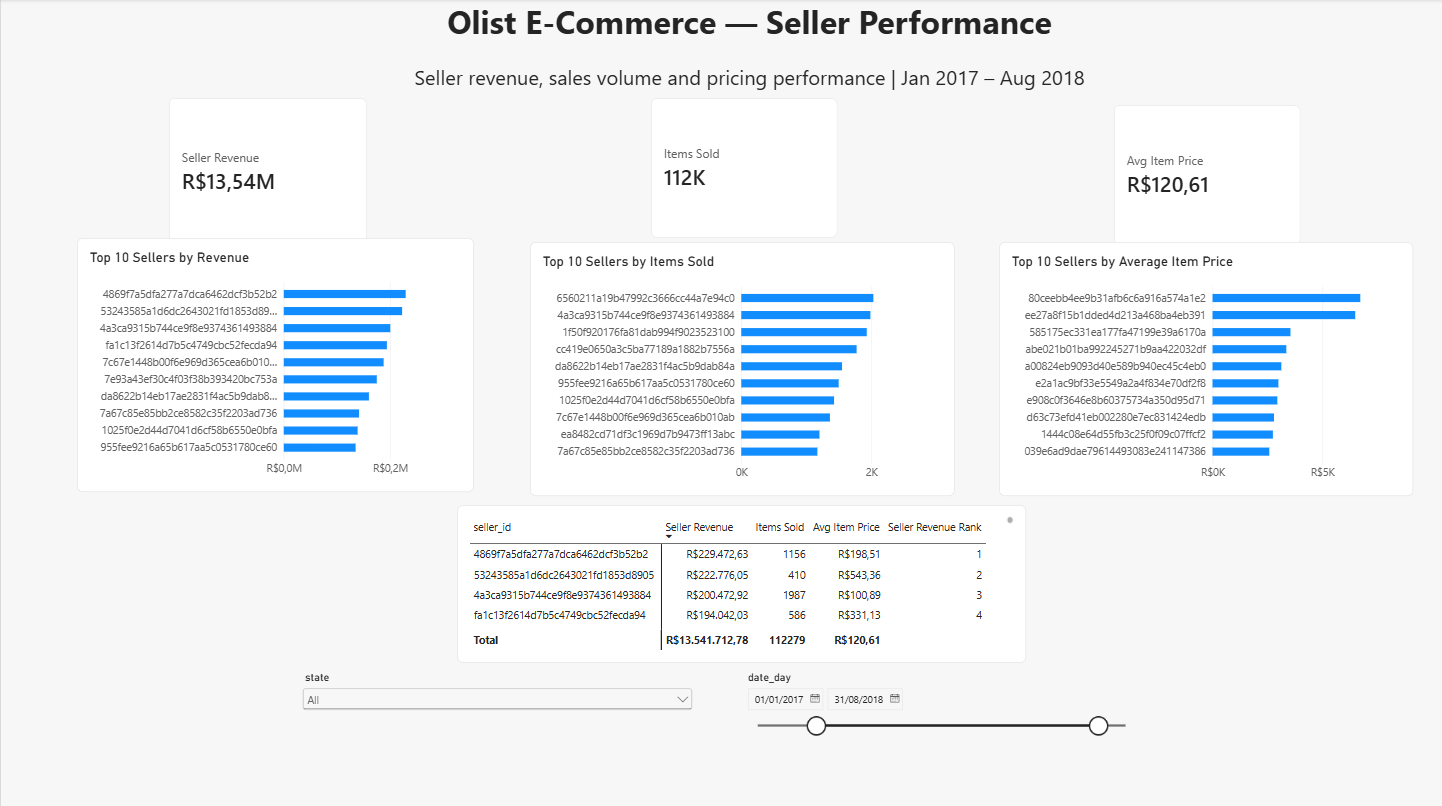

Layout of this report page (visuals, bound fields, positions):
{"tool":"powerbi","page":{"name":"Seller Performance","canvas":[1920,1080],"ordinal":4},"visuals":[{"type":"cardVisual","fields":{"Data":["_Measures.Seller Revenue"]},"box":[223.4,131.7,263.3,195.5],"z":0},{"type":"cardVisual","fields":{"Data":["_Measures.Items Sold"]},"box":[864.5,131.7,248.7,186.2],"z":1000},{"type":"cardVisual","fields":{"Data":["_Measures.Avg Item Price"]},"box":[1480.3,141,248.7,186.2],"z":2000},{"type":"clusteredBarChart","title":"Top 10 Sellers by Revenue","fields":{"Category":["analytics dim_seller.seller_id"],"Y":["_Measures.Seller Revenue"]},"box":[101.1,317.9,528,337.8],"z":3000},{"type":"clusteredBarChart","title":"Top 10 Sellers by Items Sold","fields":{"Category":["analytics dim_seller.seller_id"],"Y":["_Measures.Items Sold"]},"box":[703.6,323.2,565.3,337.8],"z":4000},{"type":"barChart","title":"Top 10 Sellers by Average Item Price","fields":{"Category":["analytics dim_seller.seller_id"],"Y":["_Measures.Avg Item Price"]},"box":[1327.4,323.2,550.6,337.8],"z":5000},{"type":"pivotTable","fields":{"Rows":["analytics dim_seller.seller_id"],"Values":["_Measures.Seller Revenue","_Measures.Items Sold","_Measures.Avg Item Price","_Measures.Seller Revenue Rank"]},"box":[606.5,673,756.8,210.1],"z":6000},{"type":"textbox","box":[110.4,0,1770.3,99.8],"z":7000},{"type":"textbox","box":[110.4,85.1,1770.3,93.1],"z":8000},{"type":"slicer","fields":{"Values":["analytics dim_seller.state"]},"box":[396.4,893.8,528,106.4],"z":9000},{"type":"slicer","fields":{"Values":["analytics dim_date.date_day"]},"box":[985.6,893.8,528,186],"z":10000}]}

Visuals, with their boxes in screenshot pixels (x1, y1, x2, y2), scaled from the page's 1920x1080 canvas onto the 1442x806 screenshot:
cardVisual - _Measures.Seller Revenue: bbox=(168, 98, 366, 244)
cardVisual - _Measures.Items Sold: bbox=(649, 98, 836, 237)
cardVisual - _Measures.Avg Item Price: bbox=(1112, 105, 1299, 244)
"Top 10 Sellers by Revenue" clusteredBarChart: bbox=(76, 237, 472, 489)
"Top 10 Sellers by Items Sold" clusteredBarChart: bbox=(528, 241, 953, 493)
"Top 10 Sellers by Average Item Price" barChart: bbox=(997, 241, 1410, 493)
pivotTable - analytics dim_seller.seller_id x _Measures.Seller Revenue: bbox=(456, 502, 1024, 659)
textbox: bbox=(83, 0, 1412, 74)
textbox: bbox=(83, 64, 1412, 133)
slicer - analytics dim_seller.state: bbox=(298, 667, 694, 746)
slicer - analytics dim_date.date_day: bbox=(740, 667, 1137, 805)
